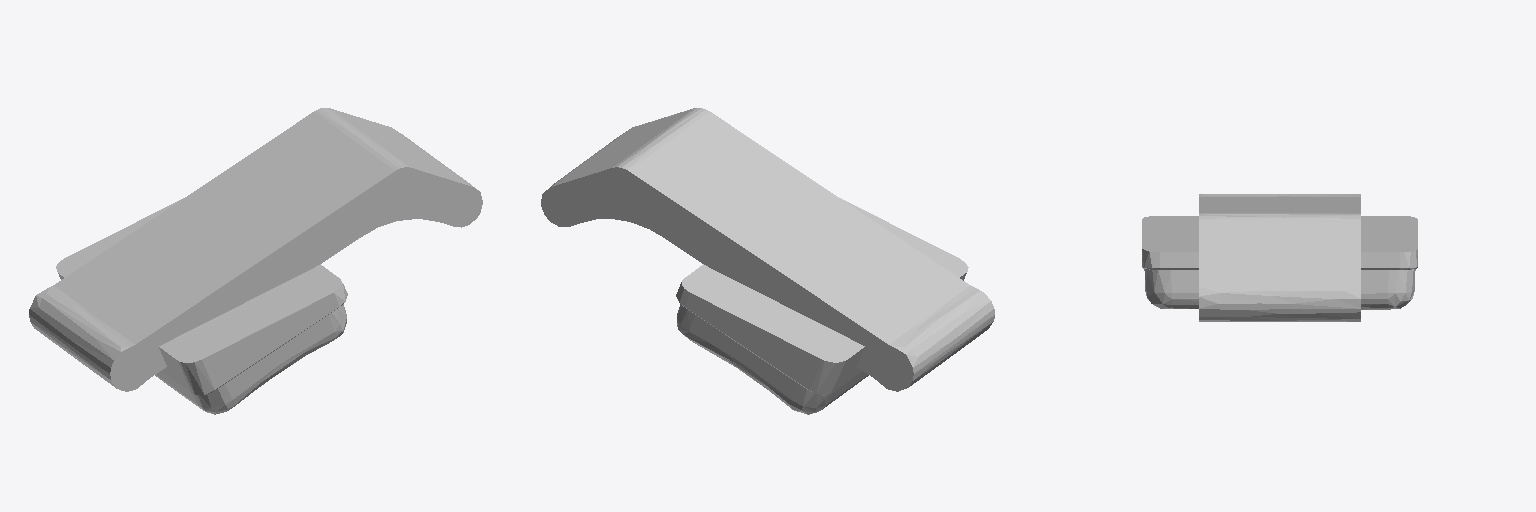
Rendered from l_float.obj.
The picture shows the model from 3 angles: view 1: azimuth 30°, elevation 25°; view 2: azimuth 150°, elevation 25°; view 3: azimuth 270°, elevation 25°; orthographic projection.
Parts seen in each view (by area): view 1: float_M_float_MShape; view 2: float_M_float_MShape; view 3: float_M_float_MShape.
Part boxes in pixels (left/top/right/bottom): float_M_float_MShape: left=29, top=108, right=482, bottom=414; float_M_float_MShape: left=541, top=108, right=994, bottom=414; float_M_float_MShape: left=1142, top=194, right=1417, bottom=321.
Size of the model in its own units: 0.0484 by 0.0229 by 0.031.